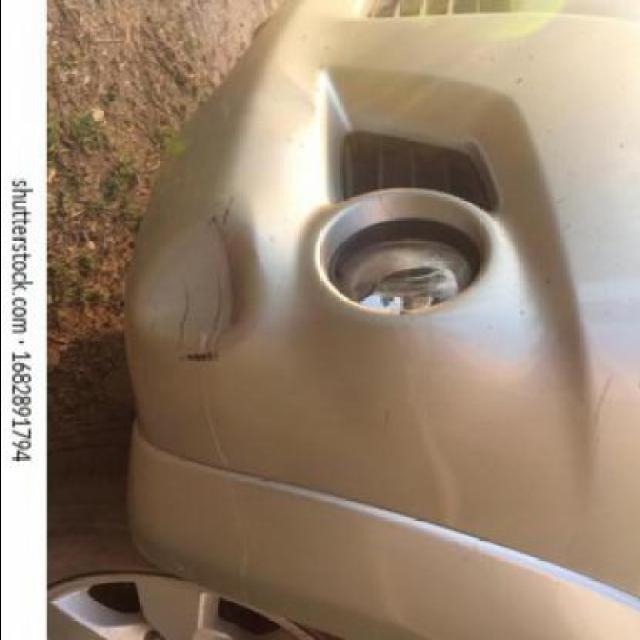front-bumper-dent: (92, 12, 531, 623), (108, 3, 531, 619)
